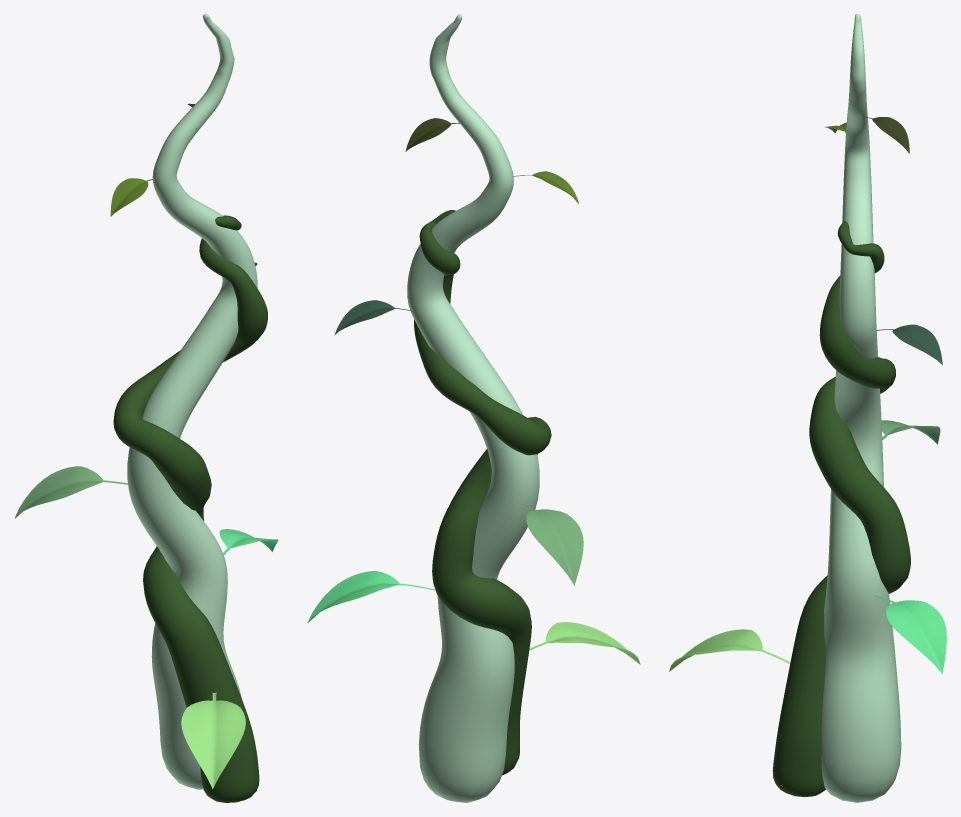
Rendered from SmallBeanstalk.fbx.
The picture shows the model from 3 angles, left to right: view 1: azimuth 30°, elevation 25°; view 2: azimuth 150°, elevation 25°; view 3: azimuth 270°, elevation 25°; orthographic projection.
Parts seen in each view (by area): view 1: SmallBeanstalk; view 2: SmallBeanstalk; view 3: SmallBeanstalk.
Part boxes in pixels (x1,y1,x2,y2): SmallBeanstalk: (14, 14, 278, 802); SmallBeanstalk: (307, 14, 640, 802); SmallBeanstalk: (669, 14, 946, 802).
Size of the model in its own units: 102 by 289 by 92.73.
